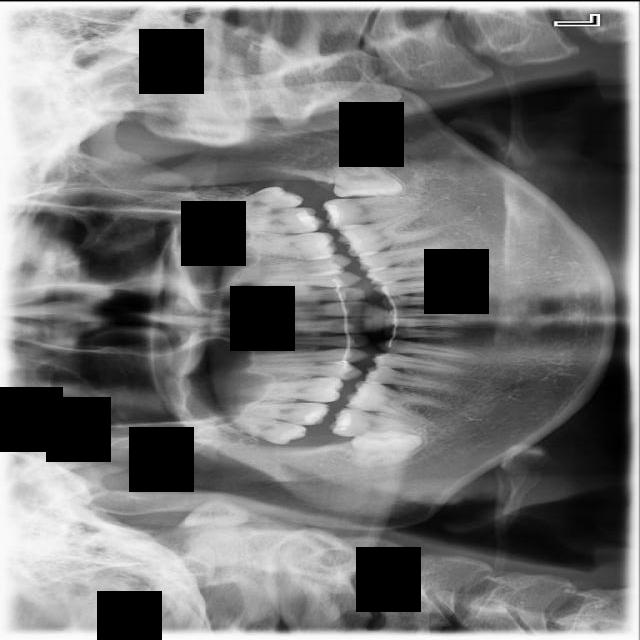3M ESPE Implant: (206, 409, 310, 447)
52: (280, 424, 305, 441), (335, 410, 352, 431), (297, 209, 316, 226), (327, 203, 341, 222), (303, 412, 319, 423)
73: (605, 18, 614, 28)
BioHorizons Implant: (216, 207, 322, 232)
BioLife Implant: (199, 181, 302, 224)
Biomet 3i Implant: (333, 156, 405, 198)
Blue Sky Bio Implant: (324, 181, 420, 233)
Caries: (226, 402, 328, 424)
Implant: (328, 405, 427, 446)
Keystone Dental Implant: (351, 428, 424, 467)
